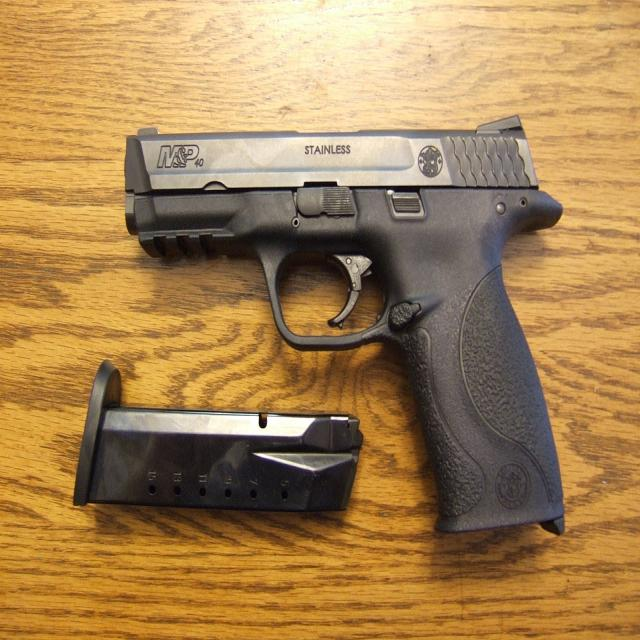HandGun: (123, 117, 566, 537)
